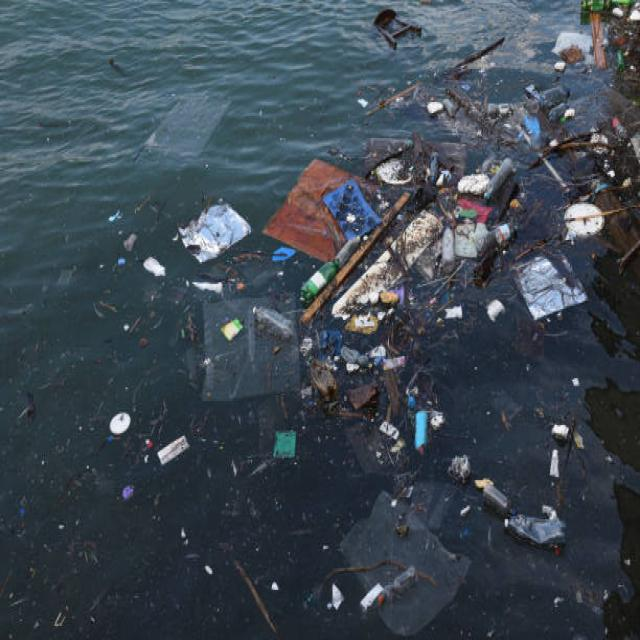garbage: (323, 77, 588, 426), (178, 288, 328, 442), (170, 187, 258, 272)
